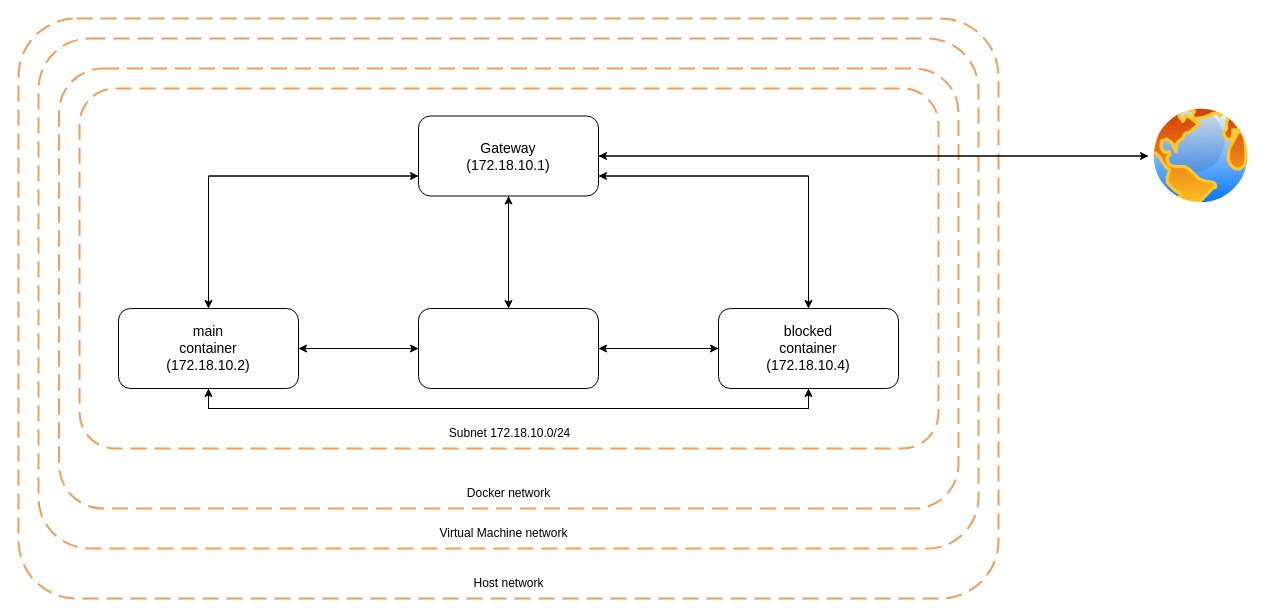
This 1270x616 diagram has some shape labels left out. Here are the shapes that lost their labels. From the top down, the box of each, then its label:
(1148, 103, 1253, 208): Internet
(418, 308, 598, 388): allowed container (172.18.10.3)
